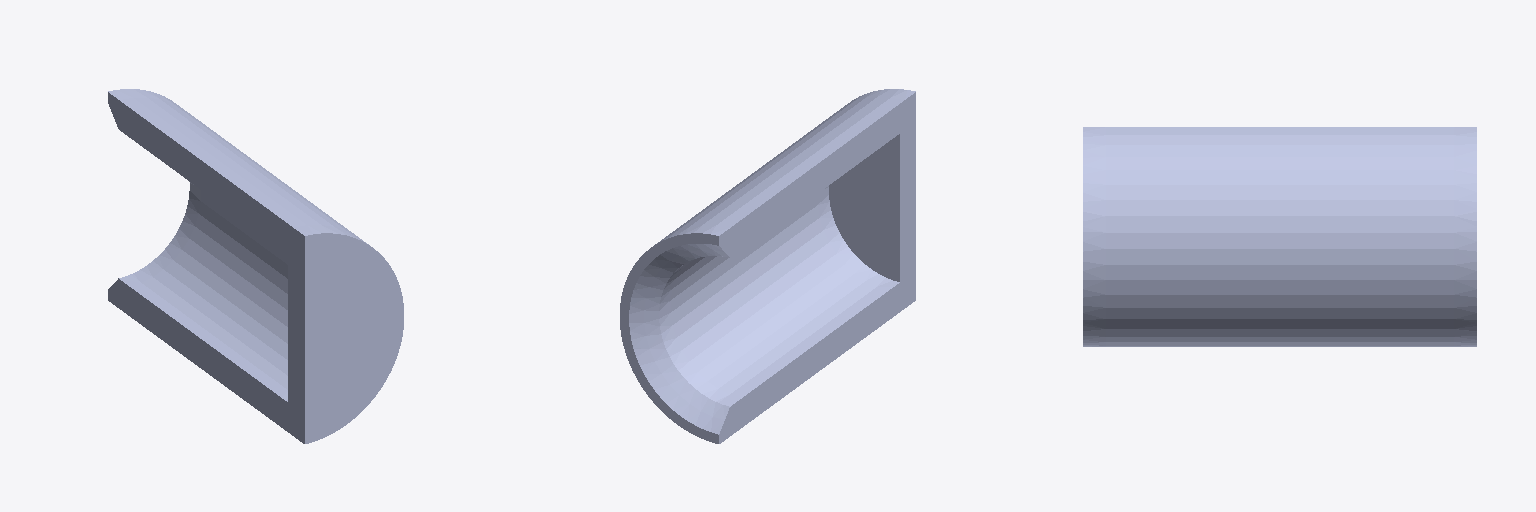
File: housing.obj
The picture shows the model from 3 angles: view 1: azimuth 30°, elevation 25°; view 2: azimuth 150°, elevation 25°; view 3: azimuth 270°, elevation 25°; orthographic projection.
Visible parts, largest first — view 1: mesh 1 housing; view 2: mesh 1 housing; view 3: mesh 1 housing.
Boxes of the visible parts, <box> form: mesh 1 housing: <box>108,89,403,443</box>; mesh 1 housing: <box>620,89,915,443</box>; mesh 1 housing: <box>1083,127,1476,346</box>.
Bounding box in the file's own units: 0.525 × 1.05 × 1.8.